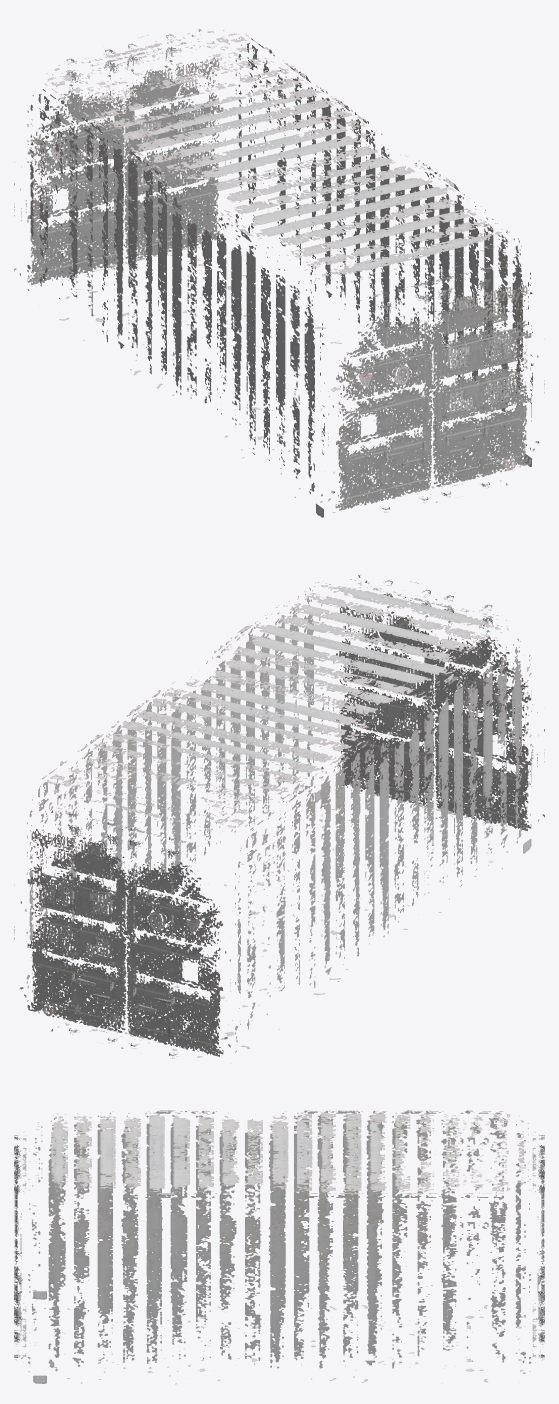
Rendered from Model_Container_03.fbx.
3 views of the same model, one above another, from view 1: azimuth 30°, elevation 25°; view 2: azimuth 150°, elevation 25°; view 3: azimuth 270°, elevation 25° (orthographic). The views are drawn at different scales.
Visible parts, largest first — view 1: Container_03_LOD0; view 2: Container_03_LOD0; view 3: Container_03_LOD0.
Boxes of the visible parts, <box> form: Container_03_LOD0: <box>14,28,544,517</box>; Container_03_LOD0: <box>14,574,544,1063</box>; Container_03_LOD0: <box>14,1110,544,1384</box>.
Size of the model in its own units: 293 by 304 by 748.
